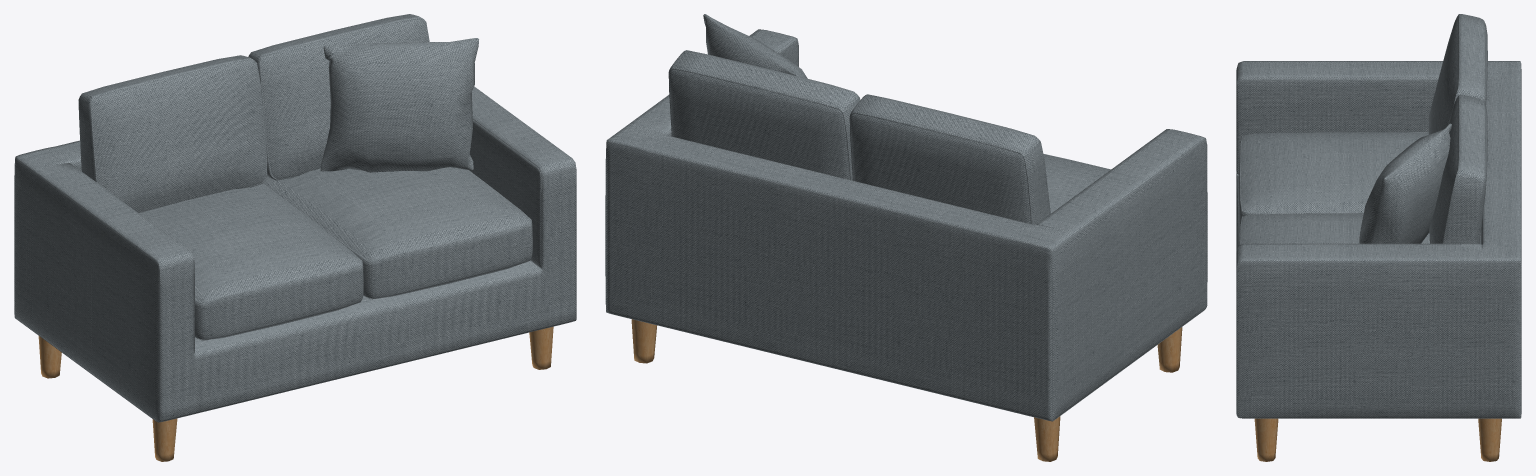
File: design2.obj
3 views of the same model, side by side, from view 1: azimuth 30°, elevation 25°; view 2: azimuth 150°, elevation 25°; view 3: azimuth 270°, elevation 25° (orthographic). The views are drawn at different scales.
Visible parts, largest first — view 1: 04, 07, 08, 06, 10, 09, 05; view 2: 04, 07, 09, 05, 10, 06; view 3: 04, 06, 10, 09, 07, 08, 05.
Part boxes in pixels (x1=…): 04: x1=14, y1=86, x2=576, y2=422; 07: x1=78, y1=55, x2=267, y2=212; 08: x1=263, y1=167, x2=532, y2=299; 06: x1=139, y1=183, x2=363, y2=340; 10: x1=320, y1=38, x2=478, y2=172; 09: x1=248, y1=14, x2=429, y2=180; 05: x1=38, y1=326, x2=553, y2=461; 04: x1=605, y1=29, x2=1207, y2=421; 07: x1=849, y1=94, x2=1050, y2=224; 09: x1=668, y1=50, x2=860, y2=180; 05: x1=631, y1=319, x2=1182, y2=461; 10: x1=703, y1=14, x2=807, y2=78; 06: x1=1043, y1=154, x2=1110, y2=213; 04: x1=1236, y1=61, x2=1521, y2=418; 06: x1=1239, y1=132, x2=1428, y2=234; 10: x1=1359, y1=123, x2=1451, y2=243; 09: x1=1429, y1=95, x2=1487, y2=243; 07: x1=1428, y1=14, x2=1487, y2=134; 08: x1=1239, y1=213, x2=1429, y2=244; 05: x1=1254, y1=418, x2=1501, y2=461.
Bounding box in the file's own units: 1201 × 775 × 717.
Materials: 2 (2 with a texture image).
